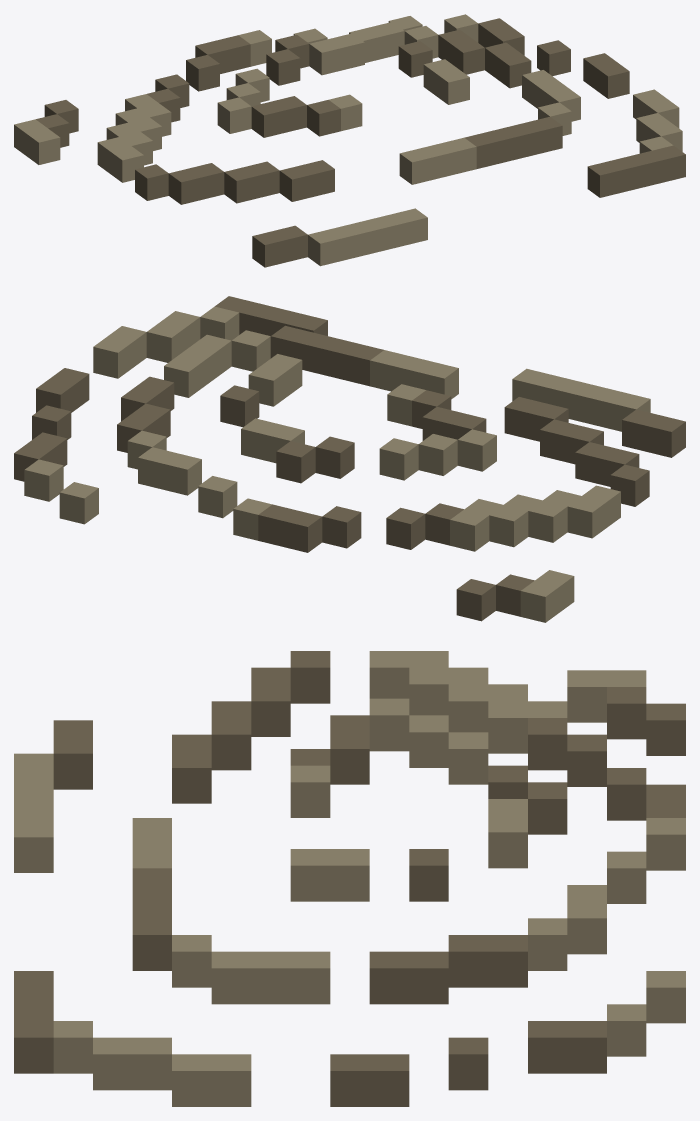
The model's file is rag.glb.
3 renders of one model, top to bottom at view 1: azimuth 30°, elevation 25°; view 2: azimuth 150°, elevation 25°; view 3: azimuth 270°, elevation 25°, orthographic. The views are drawn at different scales.
Visible parts, largest first — view 1: material:foldedSheet; view 2: material:foldedSheet; view 3: material:foldedSheet.
Boxes of the visible parts, box(x1,y1,x2,y2) form: material:foldedSheet: box(14, 14, 685, 267); material:foldedSheet: box(14, 296, 685, 622); material:foldedSheet: box(14, 651, 685, 1106).
Size of the model in its own units: 0.24 by 0.03 by 0.17.
